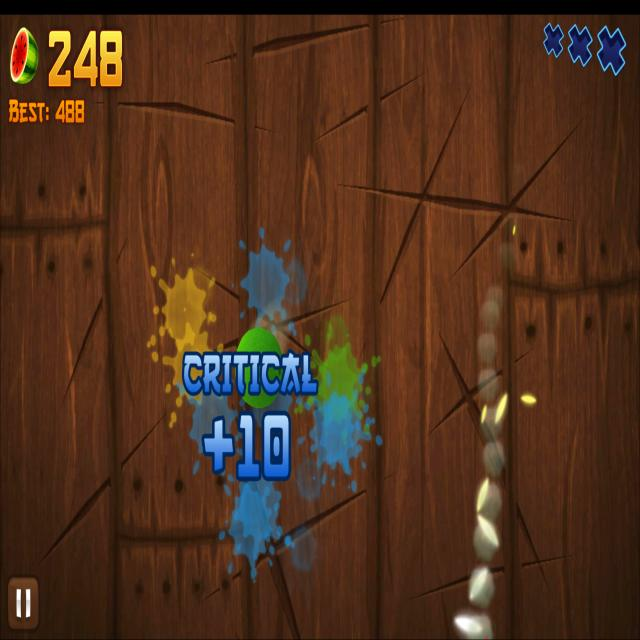fruit: (237, 326, 283, 405)
